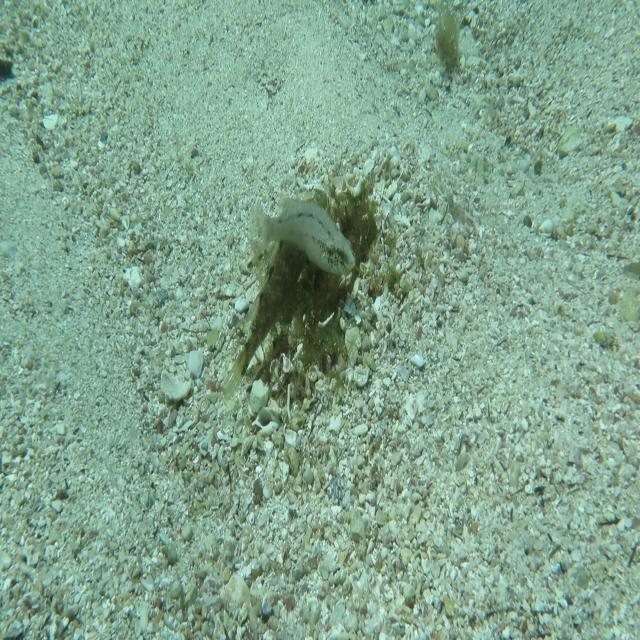FAN: (218, 187, 328, 403)
core_nest: (313, 197, 372, 255)
female: (248, 190, 357, 276)
nest: (247, 162, 392, 402)
